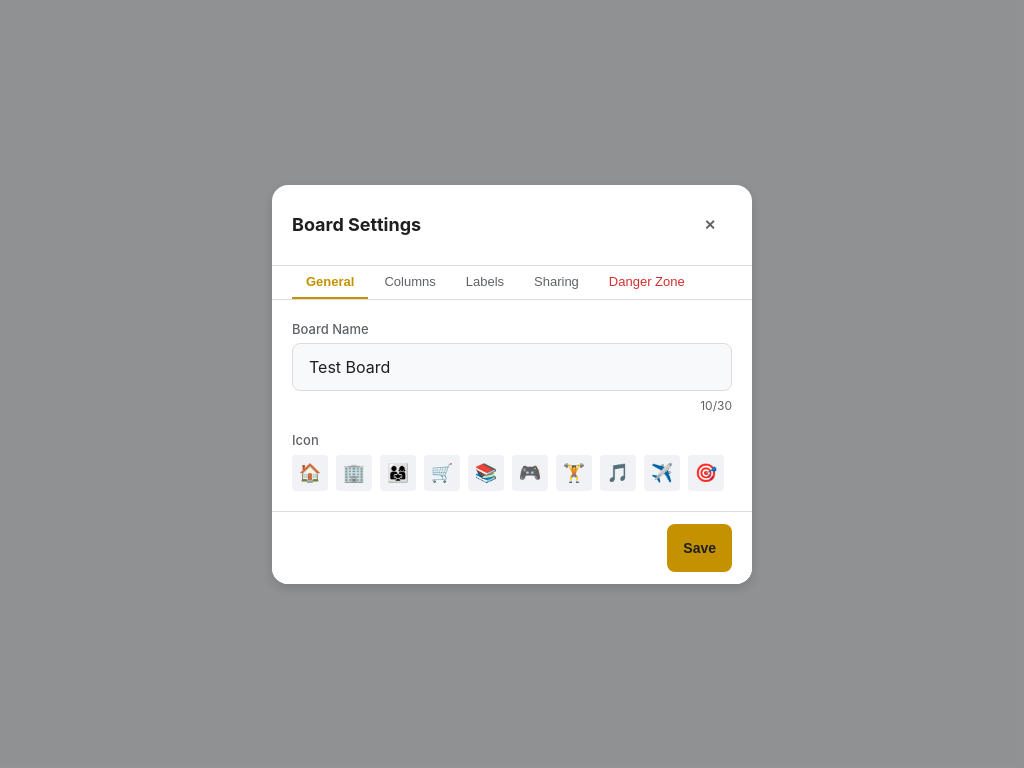
Scenario: ShareModal sharing behavior (Issue #42, preserved in #138) › AC4: Owner can remove a member from a board › renders remove buttons with aria-label containing email
Click the tab with test id "settings-tab-sharing": (556, 282) [520,266,593,298]
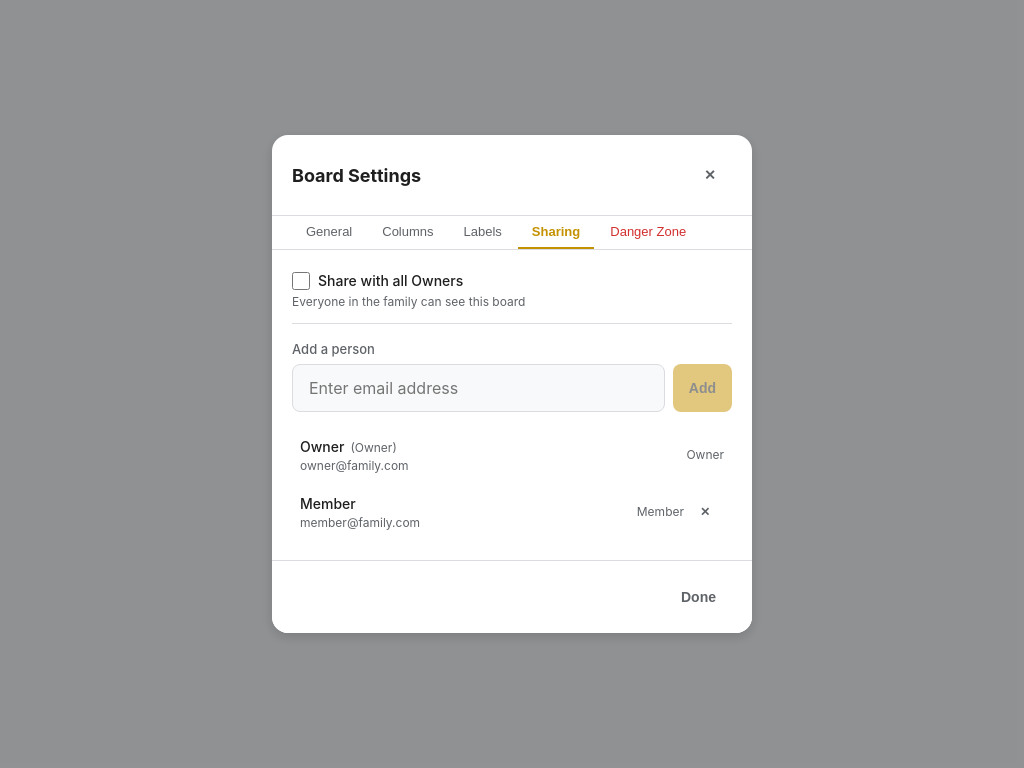
Check: the button named "Remove member@family.com" is shown, box [692,498,724,526]
